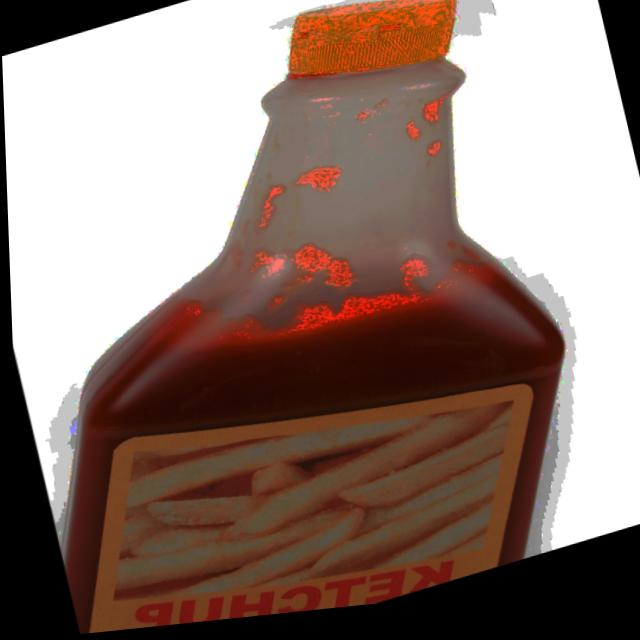ketchup: (0, 0, 614, 640)
